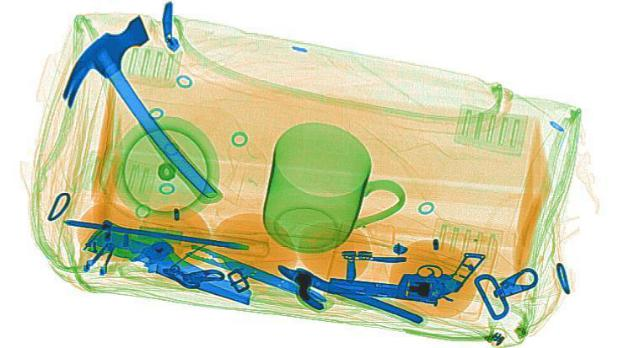Gun: (322, 241, 486, 304)
Pliers: (260, 247, 424, 340)
Scissors: (178, 242, 330, 301)
